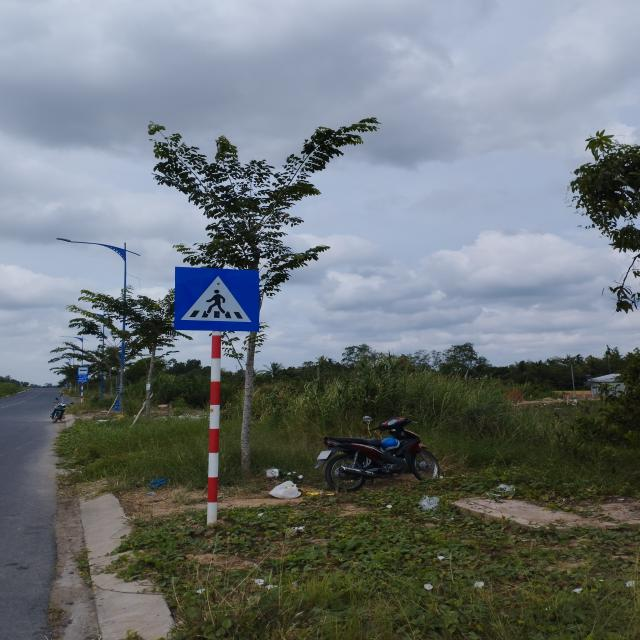Giao_Nhau_Duong_Uu_Tien: (174, 266, 260, 332)
